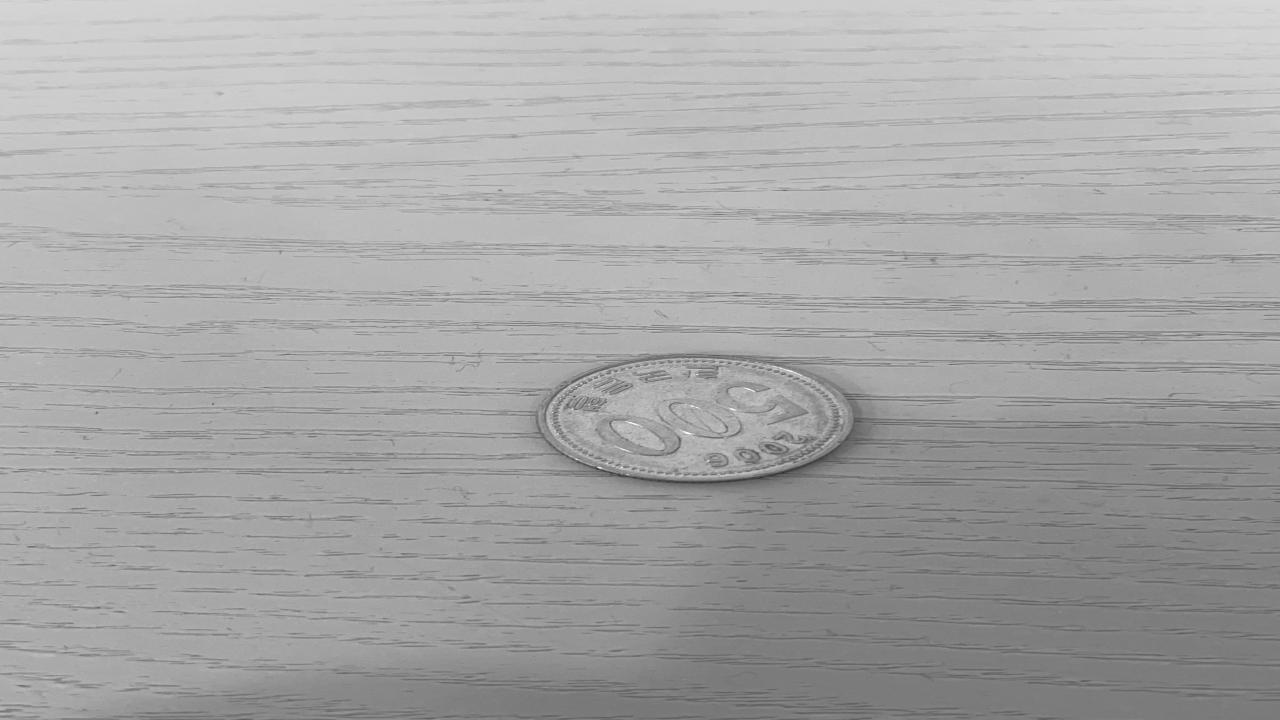coin: (530, 352, 857, 485)
